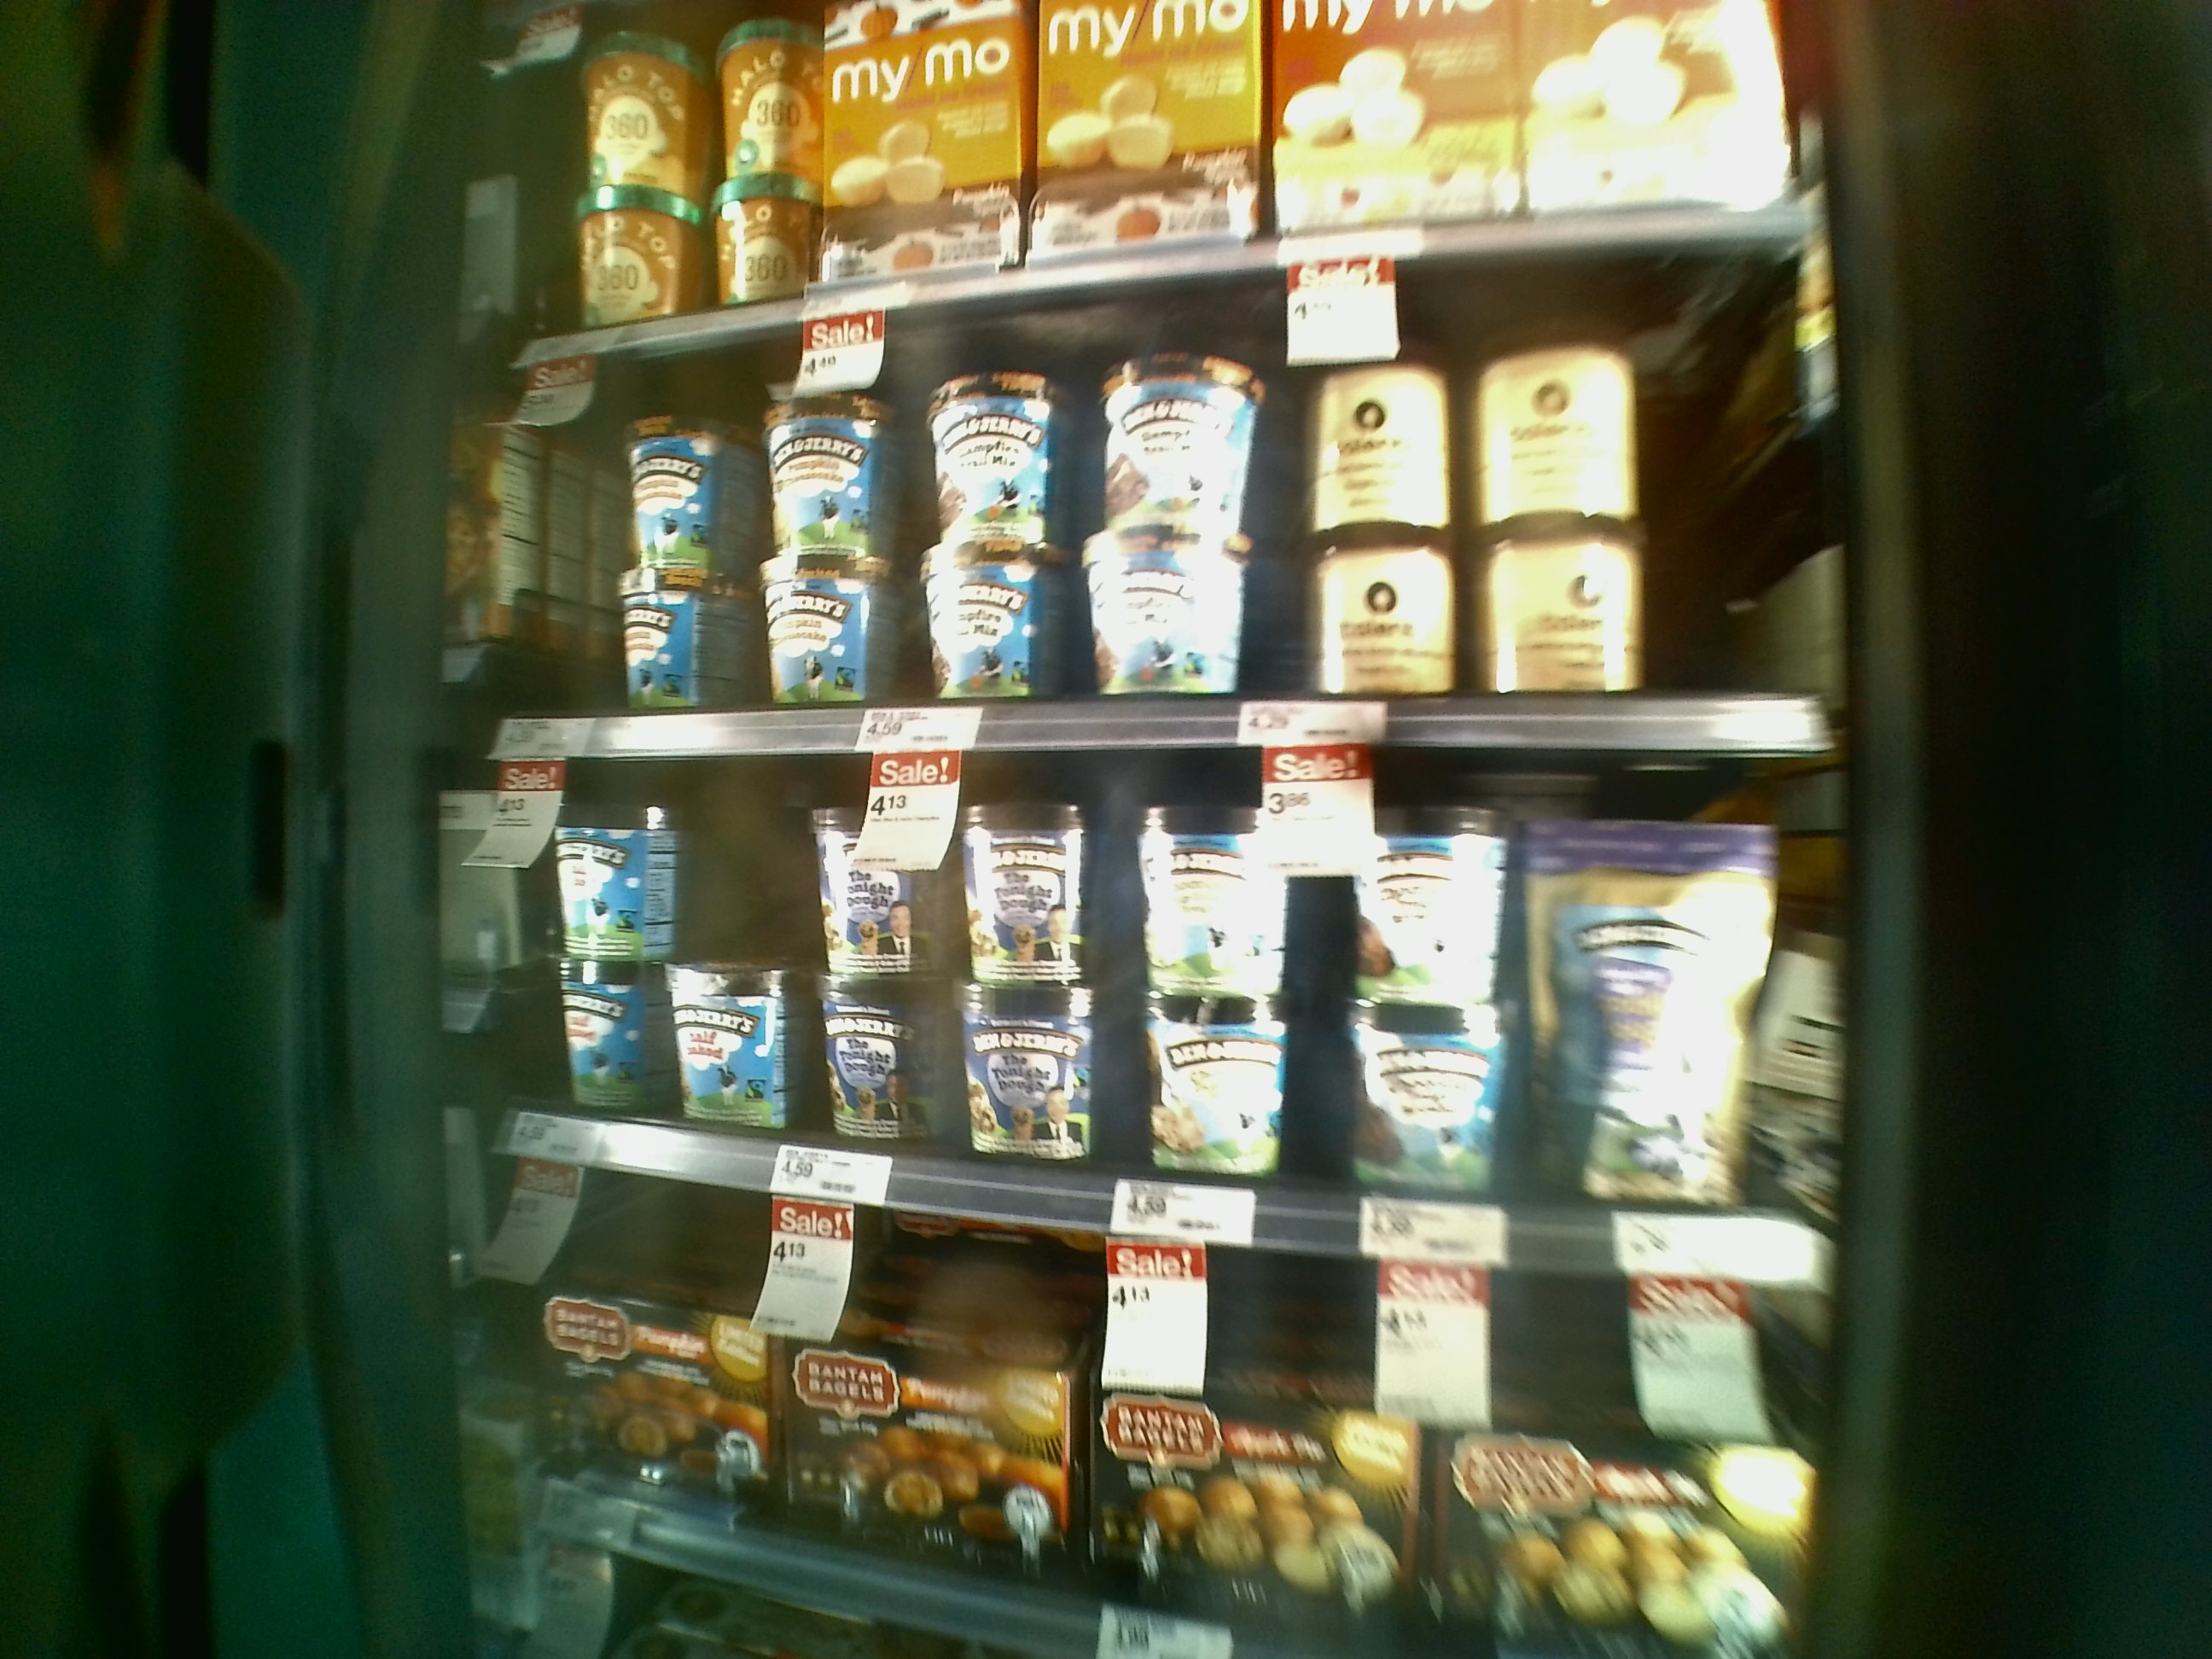shelf: (427, 760, 1844, 1281), (435, 343, 1843, 770)
